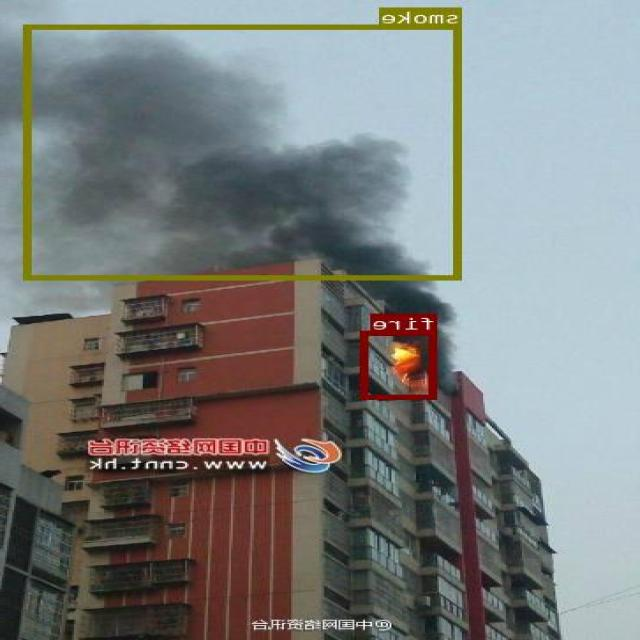fire: (362, 330, 437, 398)
smoke: (25, 24, 462, 279)
